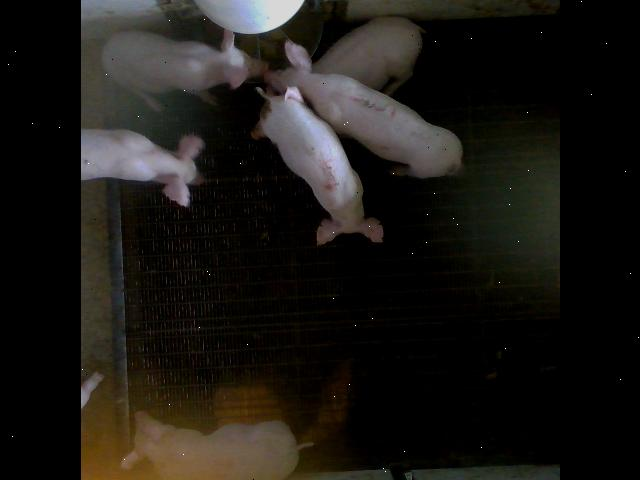pig-3: (264, 41, 461, 178)
pig-5: (252, 86, 382, 245)
